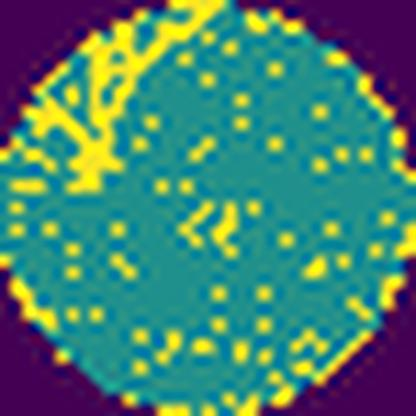Edge-Loc: (24, 0, 228, 196)
